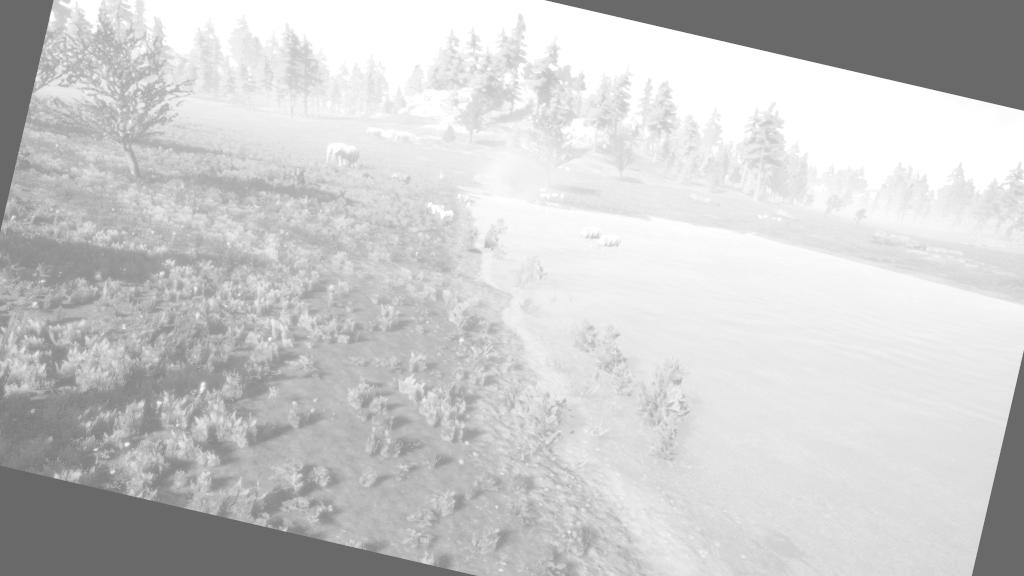Fire: (494, 163, 529, 201)
elephant: (321, 138, 366, 174), (384, 127, 412, 146), (364, 124, 384, 140)
hippopotamus: (388, 170, 414, 188)
human: (434, 168, 446, 185), (542, 202, 553, 216), (530, 198, 542, 210), (557, 190, 567, 203), (566, 205, 576, 218), (544, 192, 552, 200)
lion: (460, 194, 478, 207), (455, 191, 471, 204)
pig: (550, 191, 558, 199), (538, 191, 546, 198), (540, 187, 546, 193)
rhinoceros: (592, 230, 624, 253), (576, 222, 604, 244)
smoke: (482, 147, 548, 207)
zebra: (422, 198, 448, 218), (433, 206, 454, 222)
